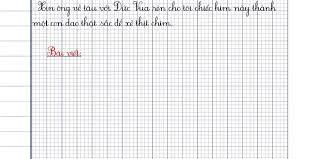text: (36, 0, 278, 18), (31, 16, 173, 28), (47, 46, 82, 58)
